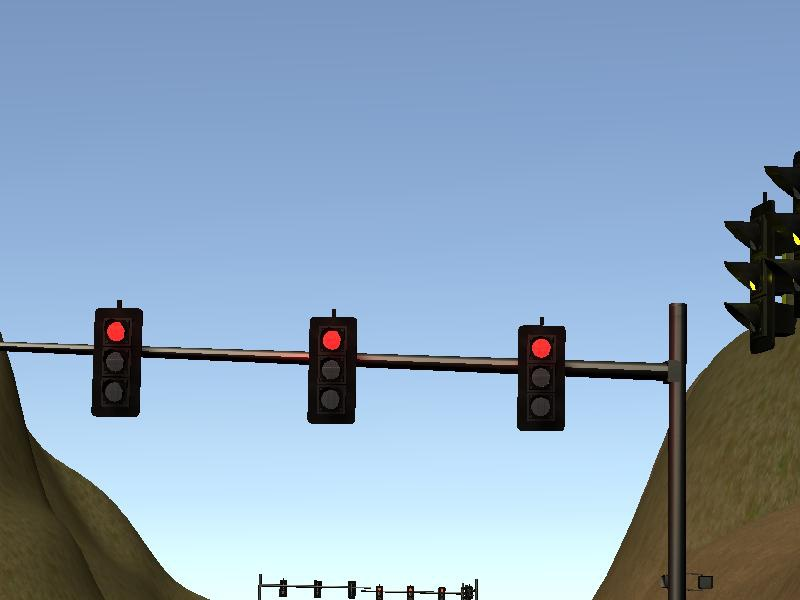Red: (302, 315, 361, 428), (85, 304, 144, 417), (509, 322, 567, 435)
